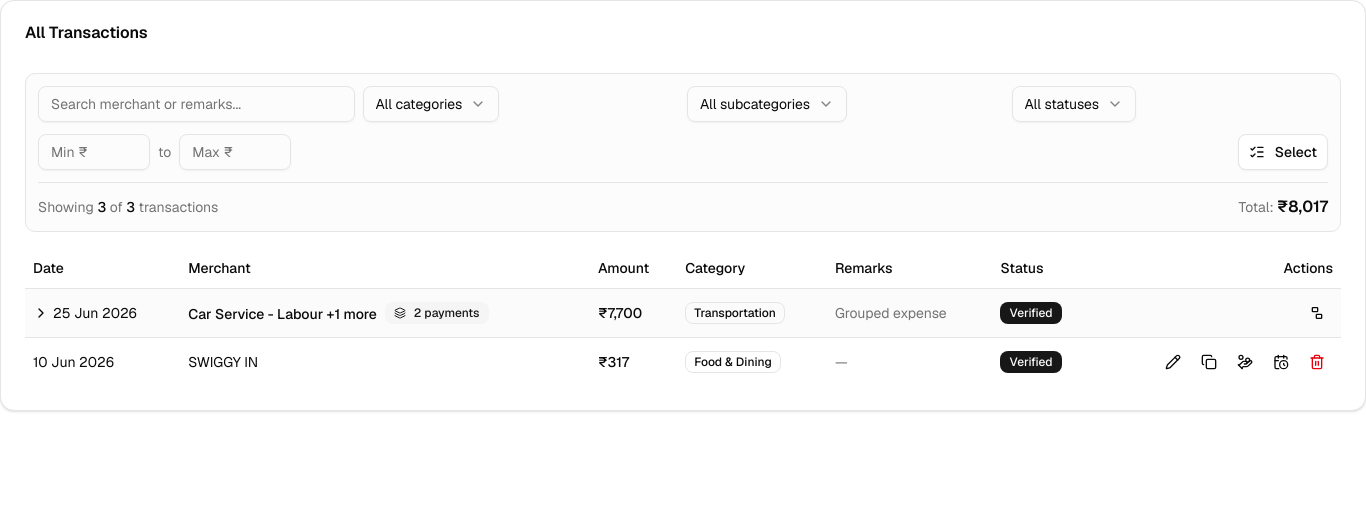
Test: TransactionTable grouped rollup › expands to reveal member transactions
expect the text "₹4,500" is not shown: met
Click the button with aria-label "Expand group": (85, 312) [33,302,137,322]
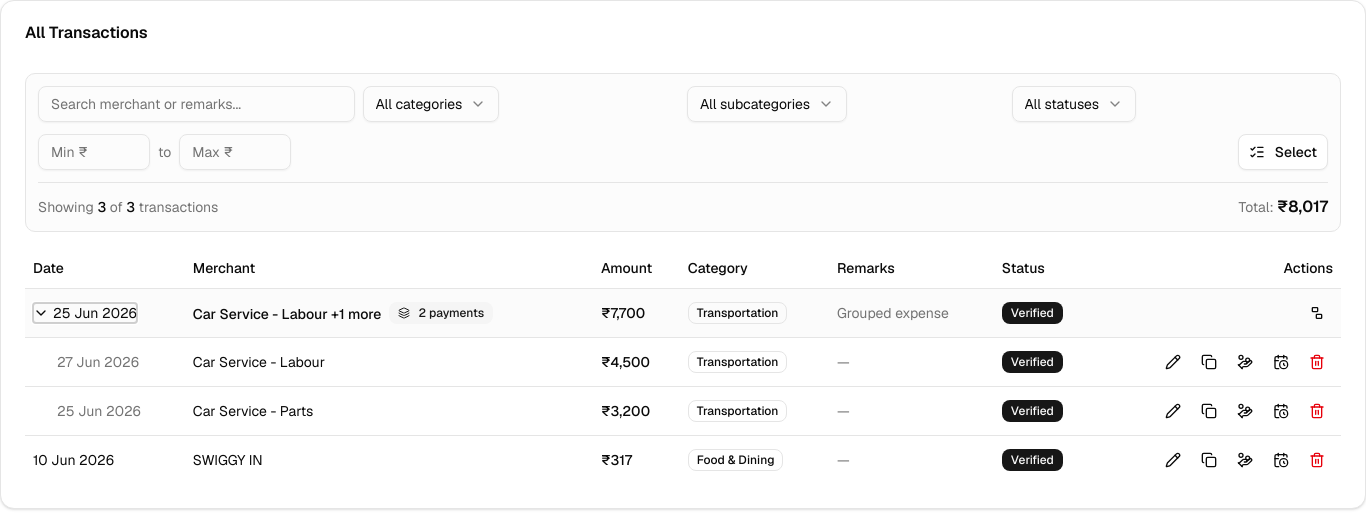
expect the text "₹4,500" is shown: met, box [593,337,680,386]
expect the text "₹3,200" is shown: met, box [593,386,680,435]
